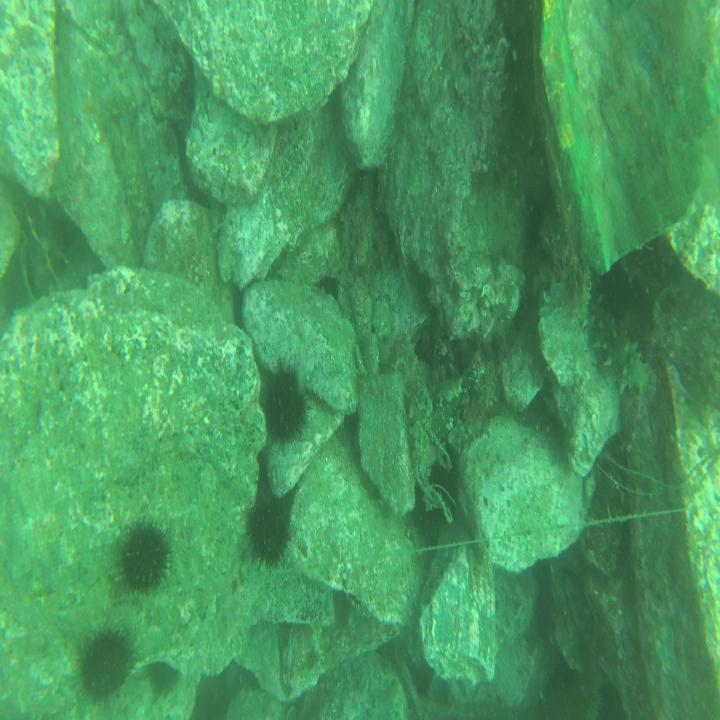echinus: (115, 520, 175, 598), (258, 359, 310, 449), (76, 624, 136, 699), (242, 499, 291, 573), (146, 662, 178, 698), (314, 272, 341, 301)
holothurian: (584, 291, 654, 398)
